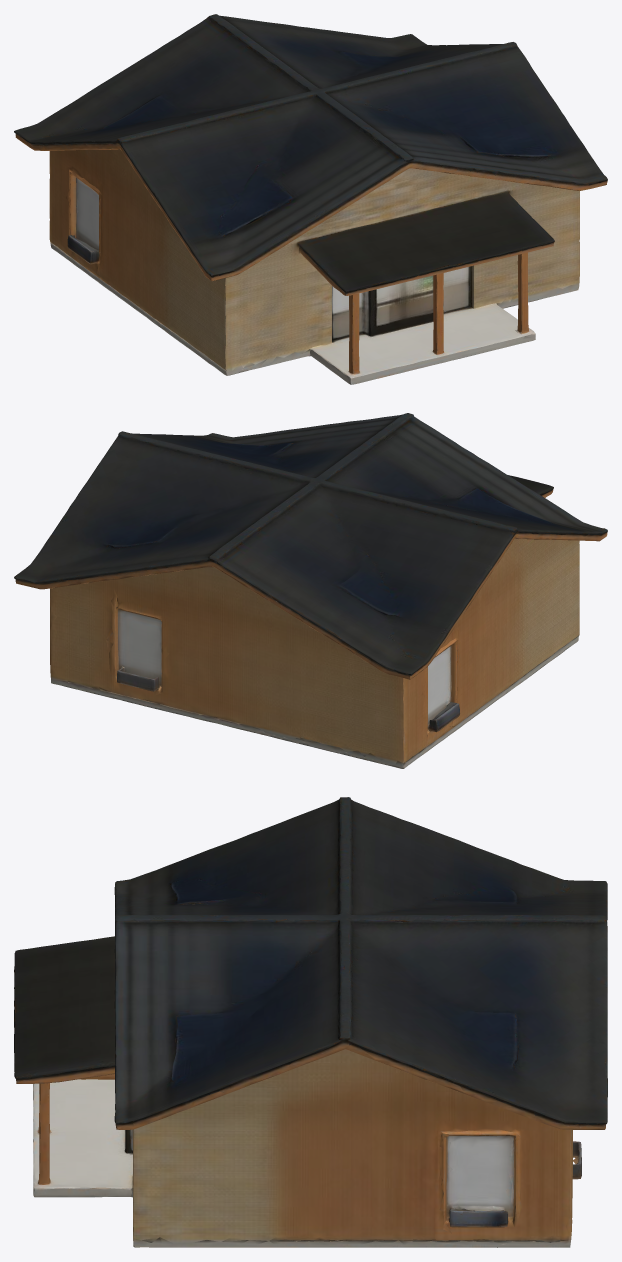
File: donation-pantry.glb
3 views of the same model, one above another, from view 1: azimuth 30°, elevation 25°; view 2: azimuth 150°, elevation 25°; view 3: azimuth 270°, elevation 25° (orthographic). The views are drawn at different scales.
Parts seen in each view (by area): view 1: Mesh; view 2: Mesh; view 3: Mesh.
Part boxes in pixels (bbox=[...]): Mesh: bbox=[14, 14, 607, 384]; Mesh: bbox=[14, 413, 607, 768]; Mesh: bbox=[14, 797, 607, 1247].
Size of the model in its own units: 1.82 by 0.7901 by 1.89.
Materials: 1 (1 with a texture image).
